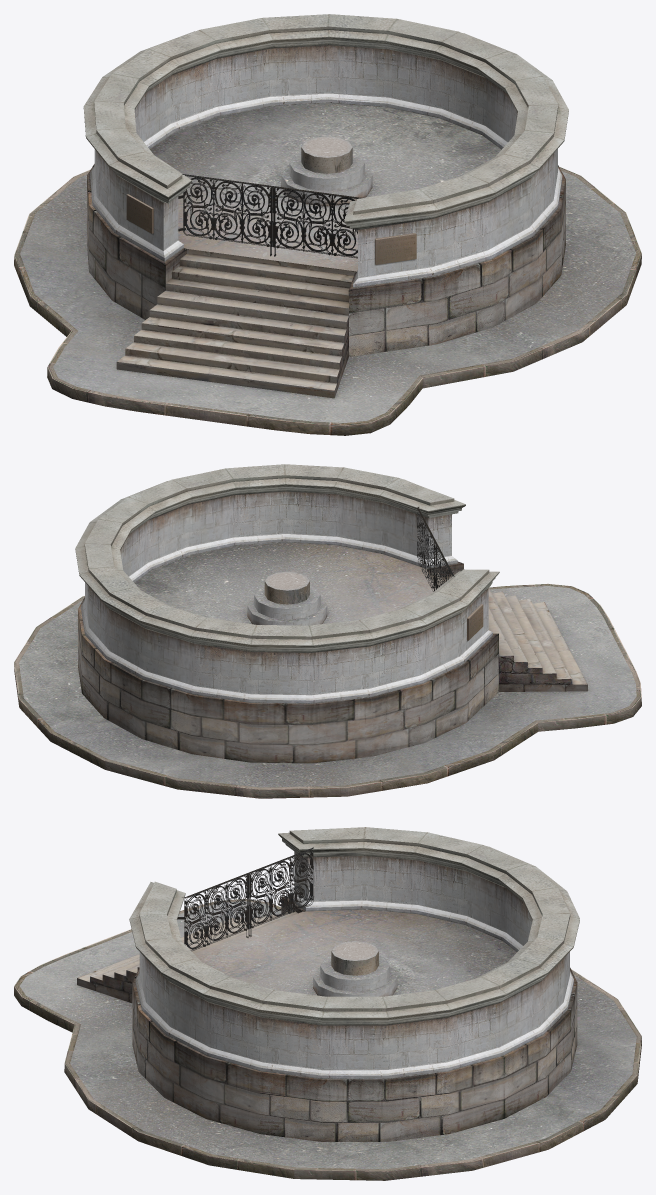
3 views of the same model, one above another, from view 1: azimuth 30°, elevation 25°; view 2: azimuth 150°, elevation 25°; view 3: azimuth 270°, elevation 25° (orthographic). The views are drawn at different scales.
Visible parts, largest first — view 1: 01080-50@500012189; view 2: 01080-50@500012189; view 3: 01080-50@500012189.
Boxes of the visible parts, left/top/right/bottom form: 01080-50@500012189: left=14, top=14, right=641, bottom=435; 01080-50@500012189: left=14, top=464, right=641, bottom=798; 01080-50@500012189: left=14, top=827, right=641, bottom=1180.
Size of the model in its own units: 17.17 by 4.11 by 16.69.
2 materials, 2 textured.
